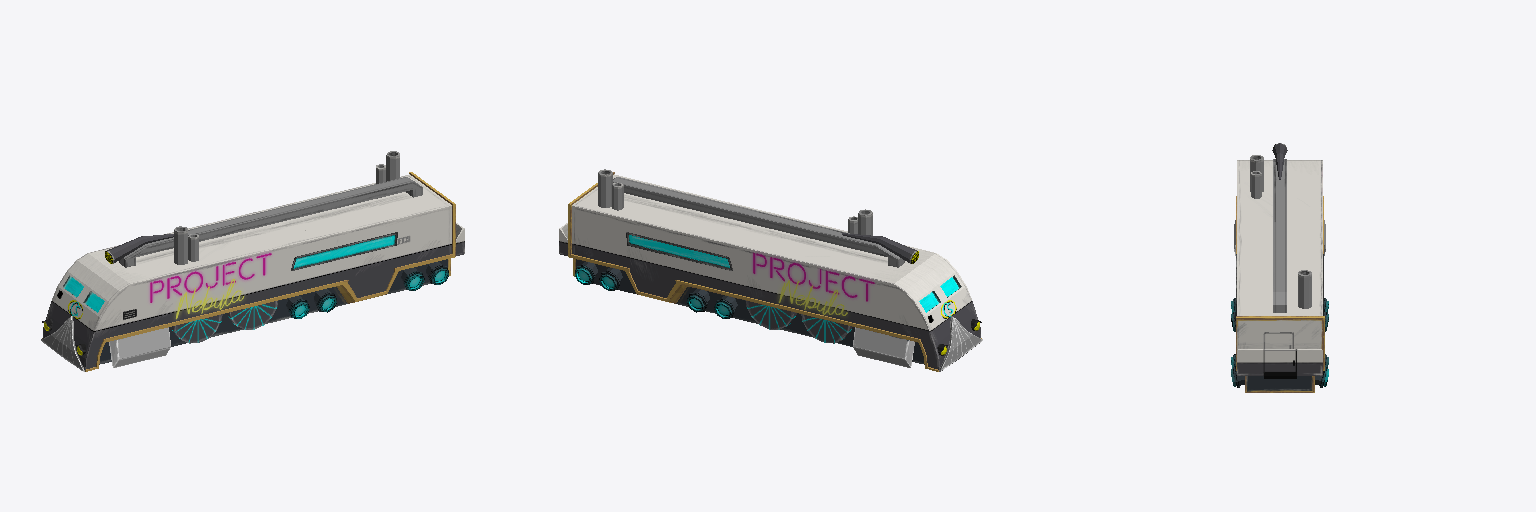
3 views of the same model, side by side, from view 1: azimuth 30°, elevation 25°; view 2: azimuth 150°, elevation 25°; view 3: azimuth 270°, elevation 25° (orthographic).
Visible parts, largest first — view 1: Cube_Cube.001; view 2: Cube_Cube.001; view 3: Cube_Cube.001.
Boxes of the visible parts, x1=… form: Cube_Cube.001: x1=41, y1=151, x2=464, y2=371; Cube_Cube.001: x1=559, y1=169, x2=982, y2=371; Cube_Cube.001: x1=1231, y1=143, x2=1328, y2=392.
Size of the model in its own units: 10.52 by 2.9 by 2.31.
1 materials, 1 textured.